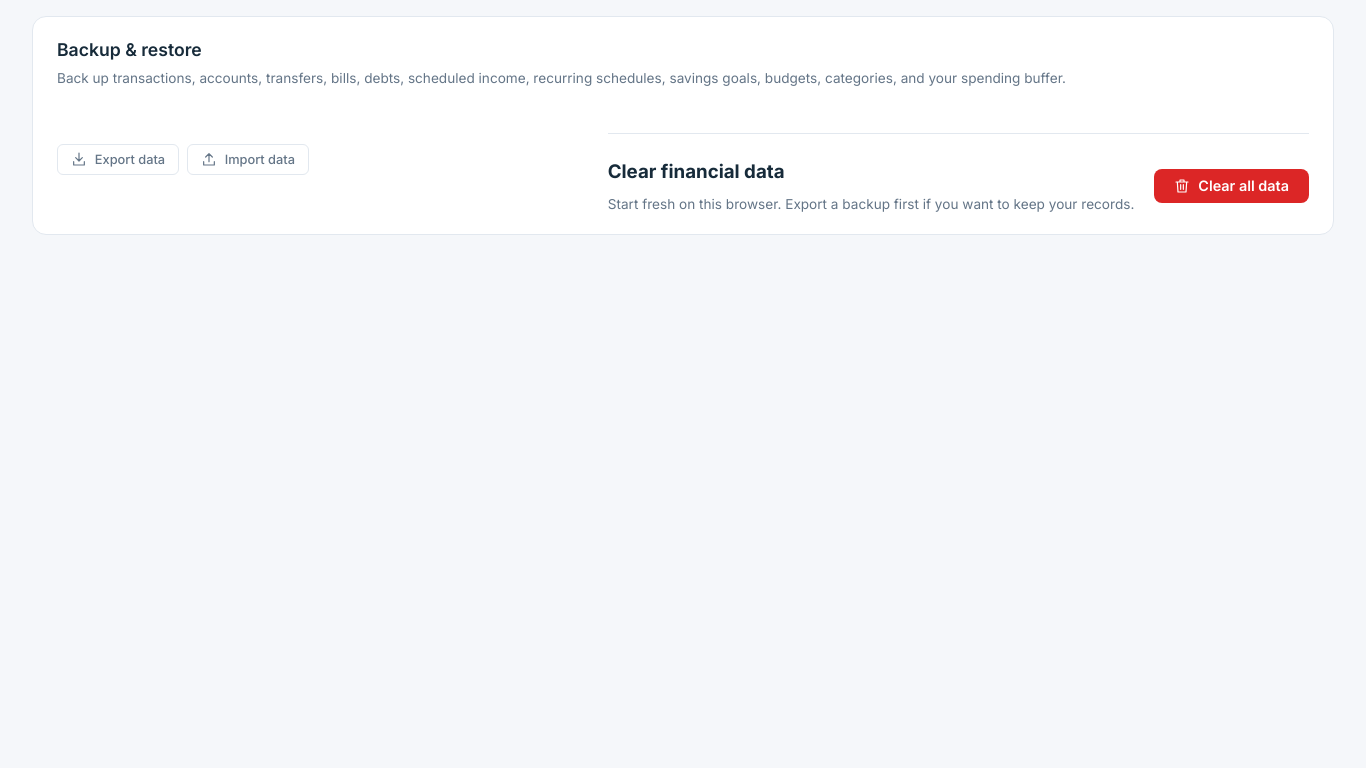
requires explicit confirmation before clearing and allows cancellation
Click the button "Clear all data": click(1232, 186) [1154,168,1309,203]
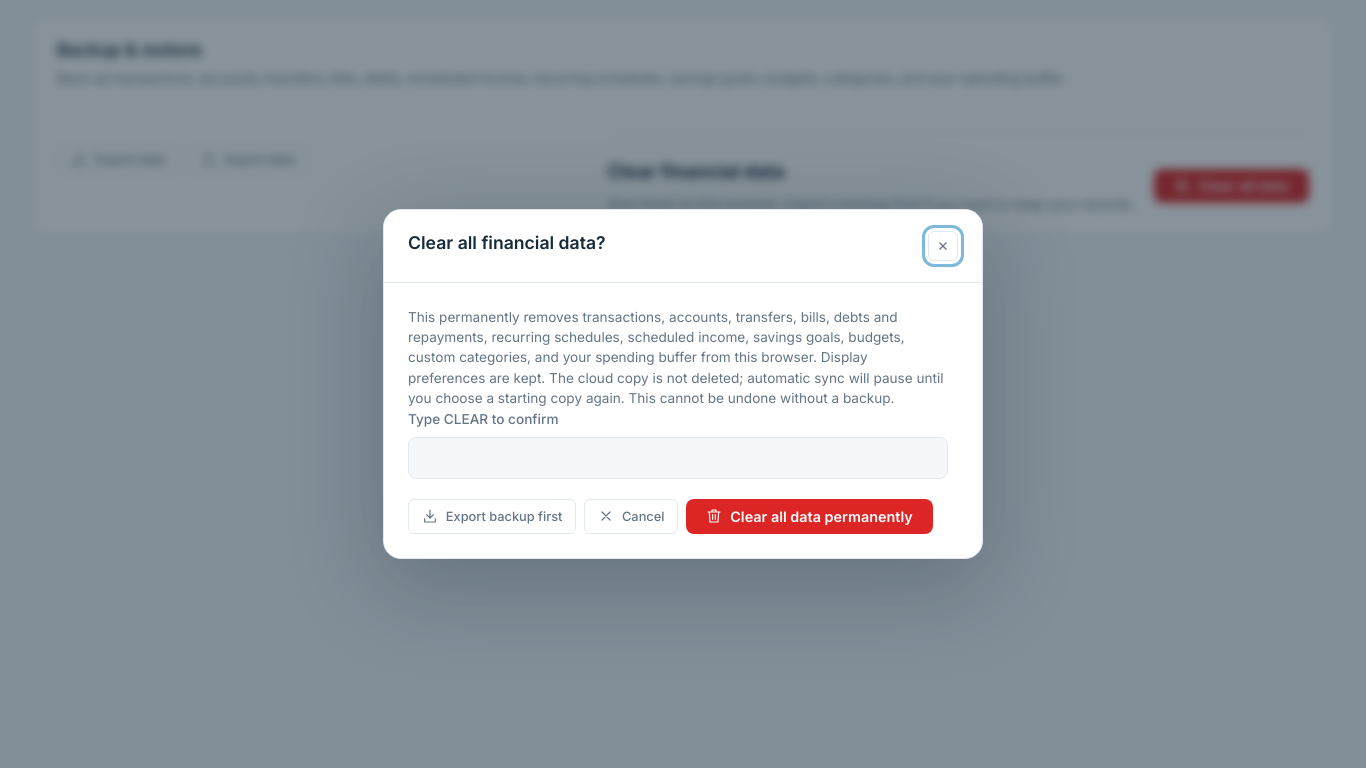
Expected: the button "Clear all data permanently" is disabled, [686,499,933,534]
In the field labelled "Type CLEAR to confirm": (678, 458) [408,437,948,479], type "clear"
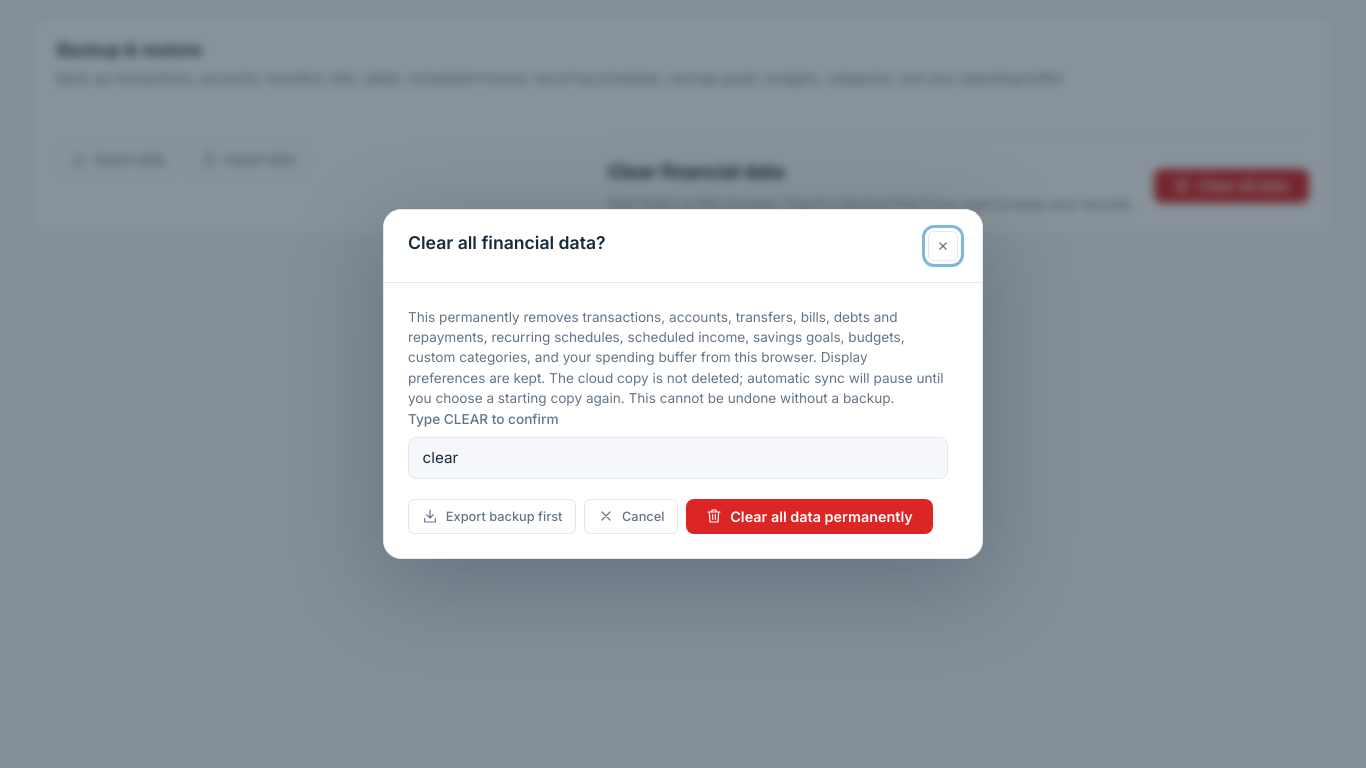
Expected: the button "Clear all data permanently" is disabled, [686,499,933,534]
Click the button "Cancel": click(631, 516) [584,499,678,534]
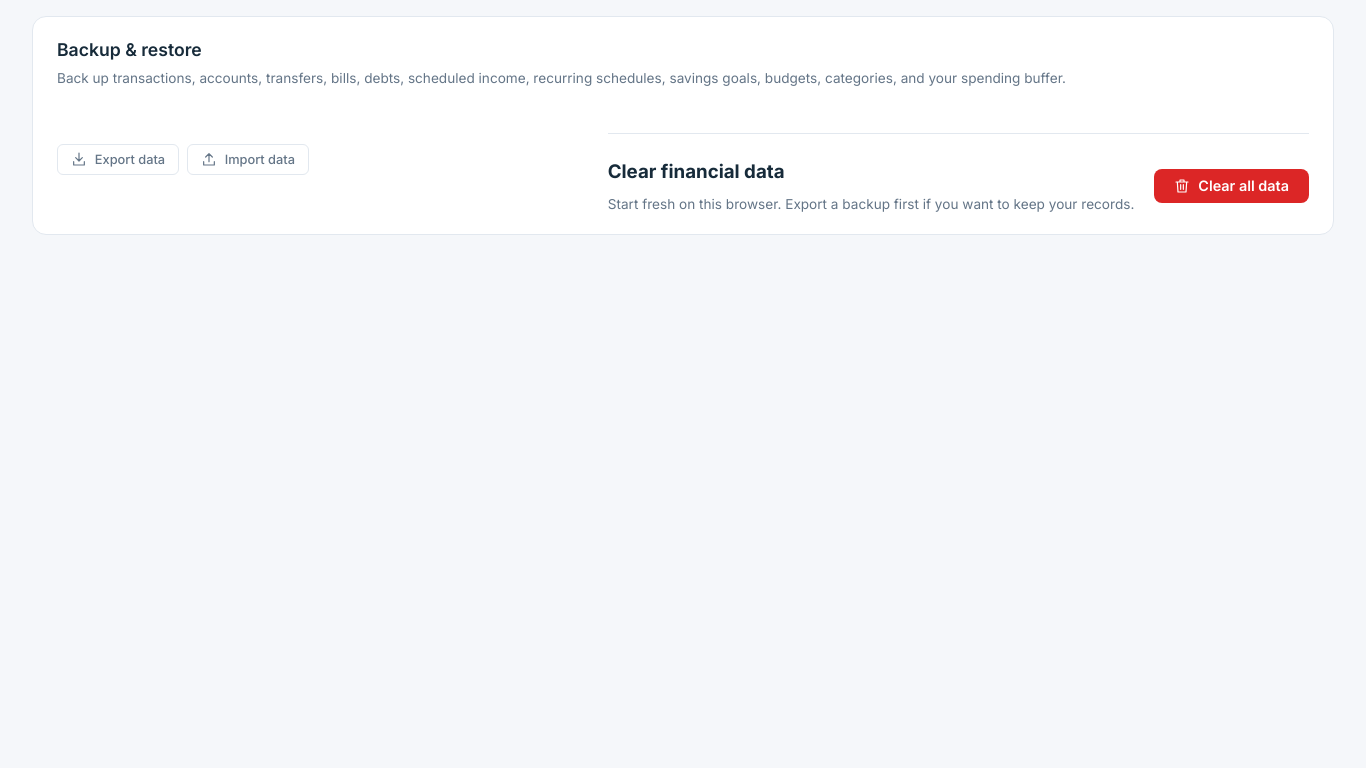
Click the button "Clear all data": click(1232, 186) [1154,168,1309,203]
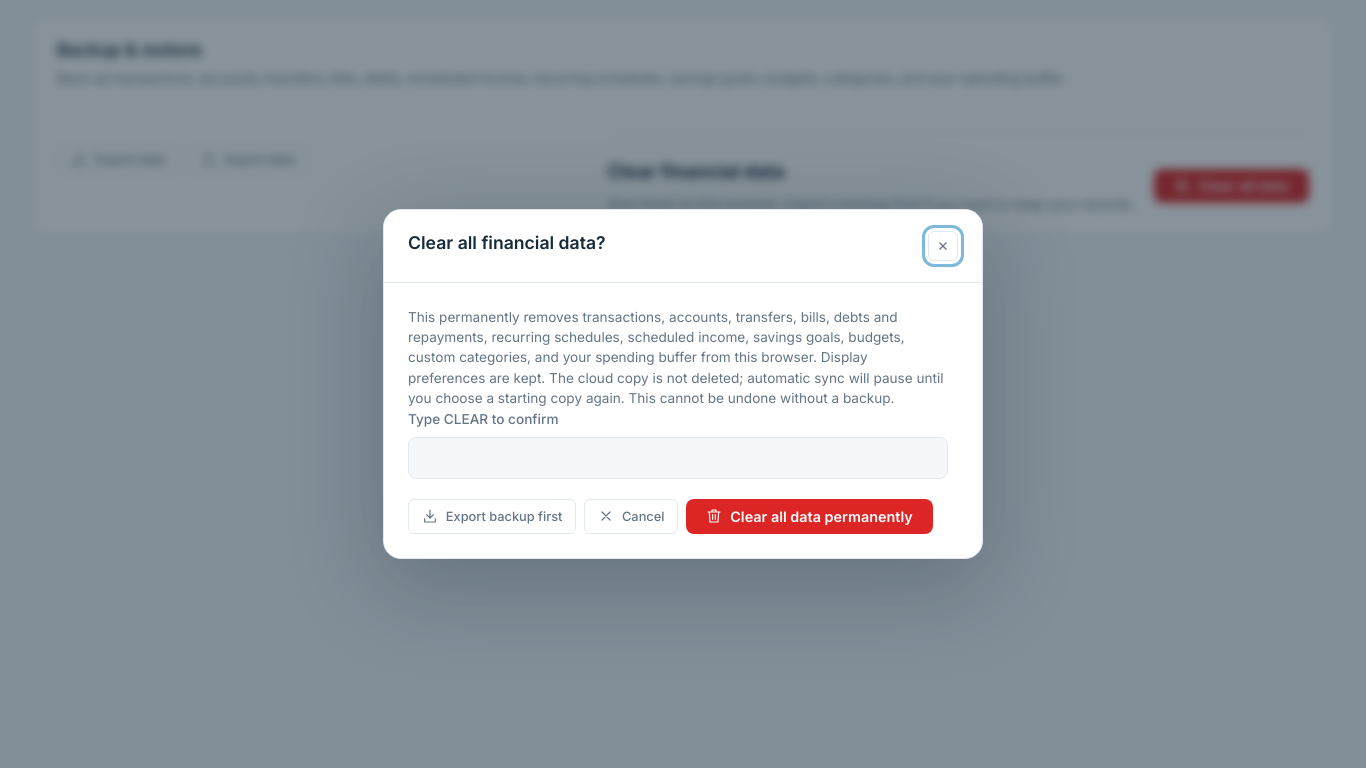
In the field labelled "Type CLEAR to confirm": (678, 458) [408,437,948,479], type "CLEAR"
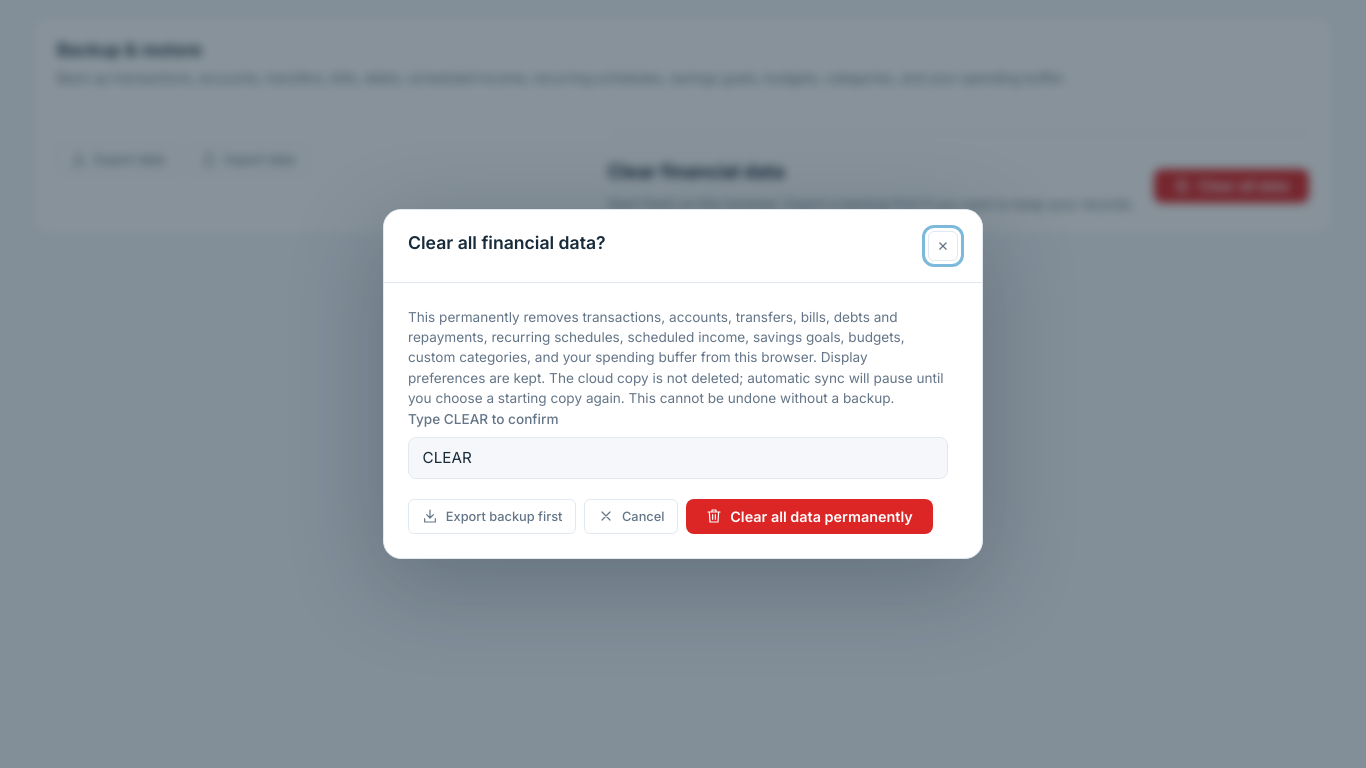
Click the button "Clear all data permanently": click(810, 516) [686,499,933,534]
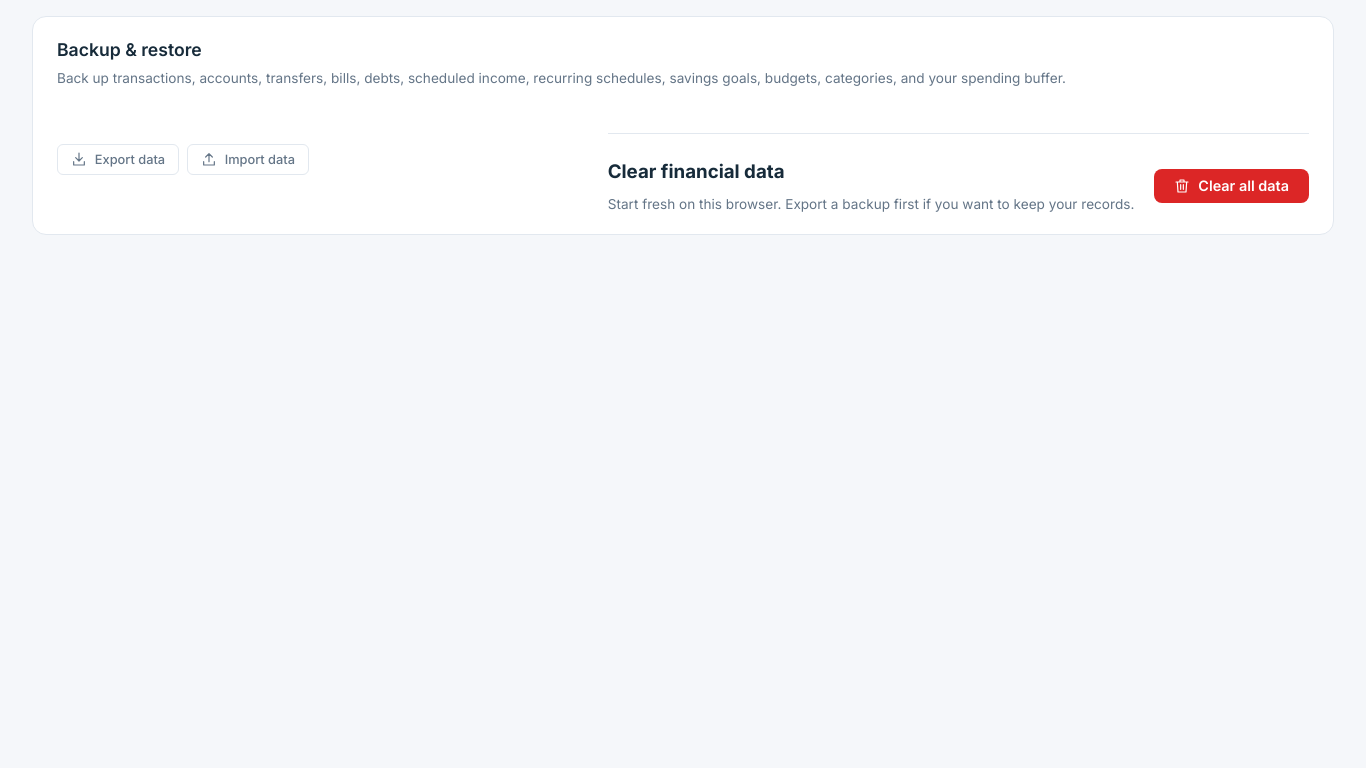
Expected: the dialog is gone
